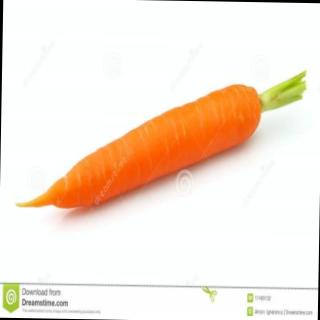Wortel: (47, 82, 262, 212)
